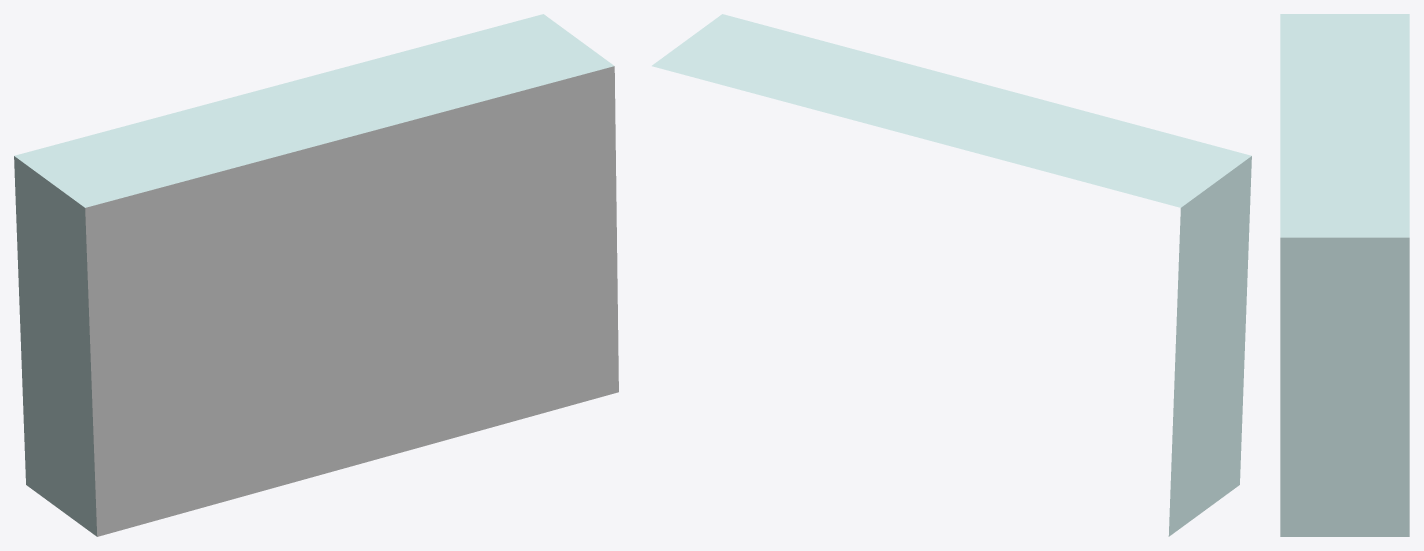
3 views of the same model, side by side, from view 1: azimuth 30°, elevation 25°; view 2: azimuth 150°, elevation 25°; view 3: azimuth 270°, elevation 25° (orthographic). The views are drawn at different scales.
Parts seen in each view (by area): view 1: 0_0_2_1_1_0_1_2_0; view 2: 0_0_2_1_1_0_1_2_0; view 3: 0_0_2_1_1_0_1_2_0.
Part boxes in pixels (<box>): 0_0_2_1_1_0_1_2_0: <box>14,14,618,536</box>; 0_0_2_1_1_0_1_2_0: <box>652,14,1251,536</box>; 0_0_2_1_1_0_1_2_0: <box>1280,14,1409,536</box>.
Size of the model in its own units: 12.99 by 8.02 by 3.
